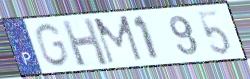1: (132, 15, 164, 61)
5: (195, 9, 233, 56)
9: (168, 14, 200, 56)
G: (33, 22, 71, 69)
H: (59, 16, 111, 68)
M: (91, 14, 145, 67)
